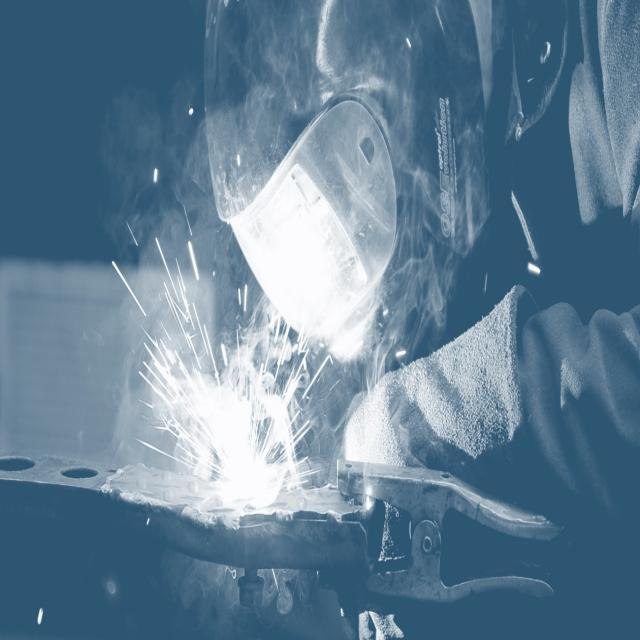with_helmet: (204, 0, 487, 359)
